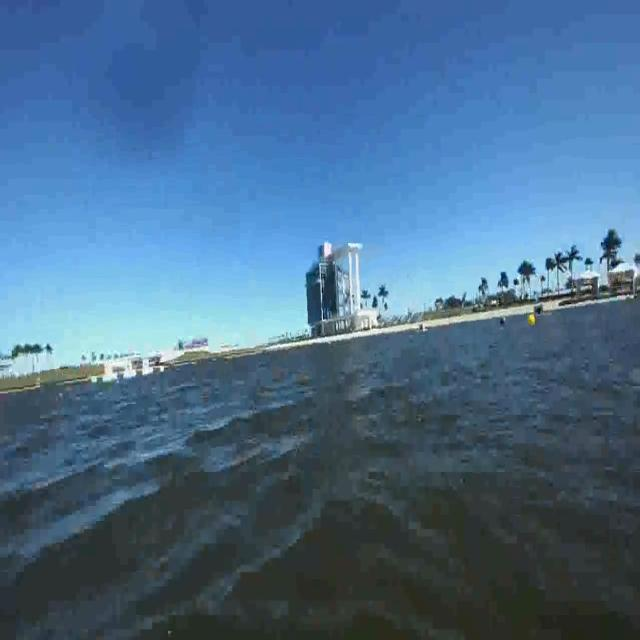yellow-buoy: (528, 313, 536, 327)
